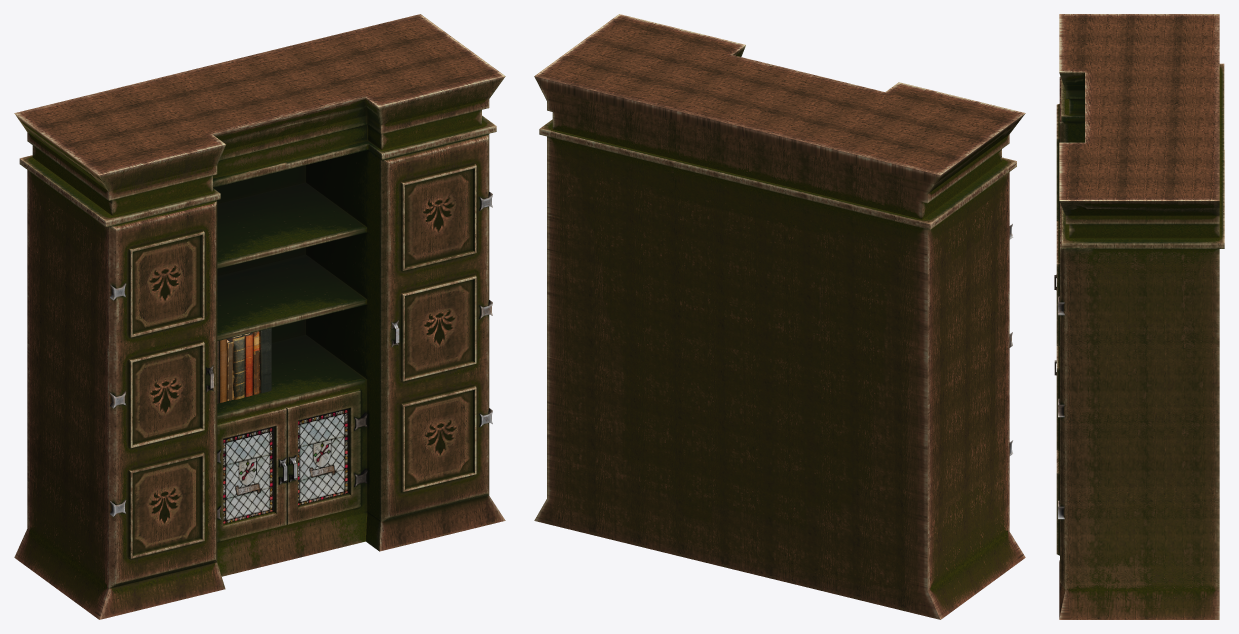
File: CabinetDoubleBig.fbx
The picture shows the model from 3 angles, left to right: view 1: azimuth 30°, elevation 25°; view 2: azimuth 150°, elevation 25°; view 3: azimuth 270°, elevation 25°; orthographic projection. The views are drawn at different scales.
Visible parts, largest first — view 1: cabinet, books3; view 2: cabinet; view 3: cabinet.
Part boxes in pixels (<box>): cabinet: <box>14,14,505,619</box>; books3: <box>217,328,271,403</box>; cabinet: <box>534,14,1025,619</box>; cabinet: <box>1054,14,1224,619</box>.
Bounding box in the file's own units: 172 × 180 × 66.06.
